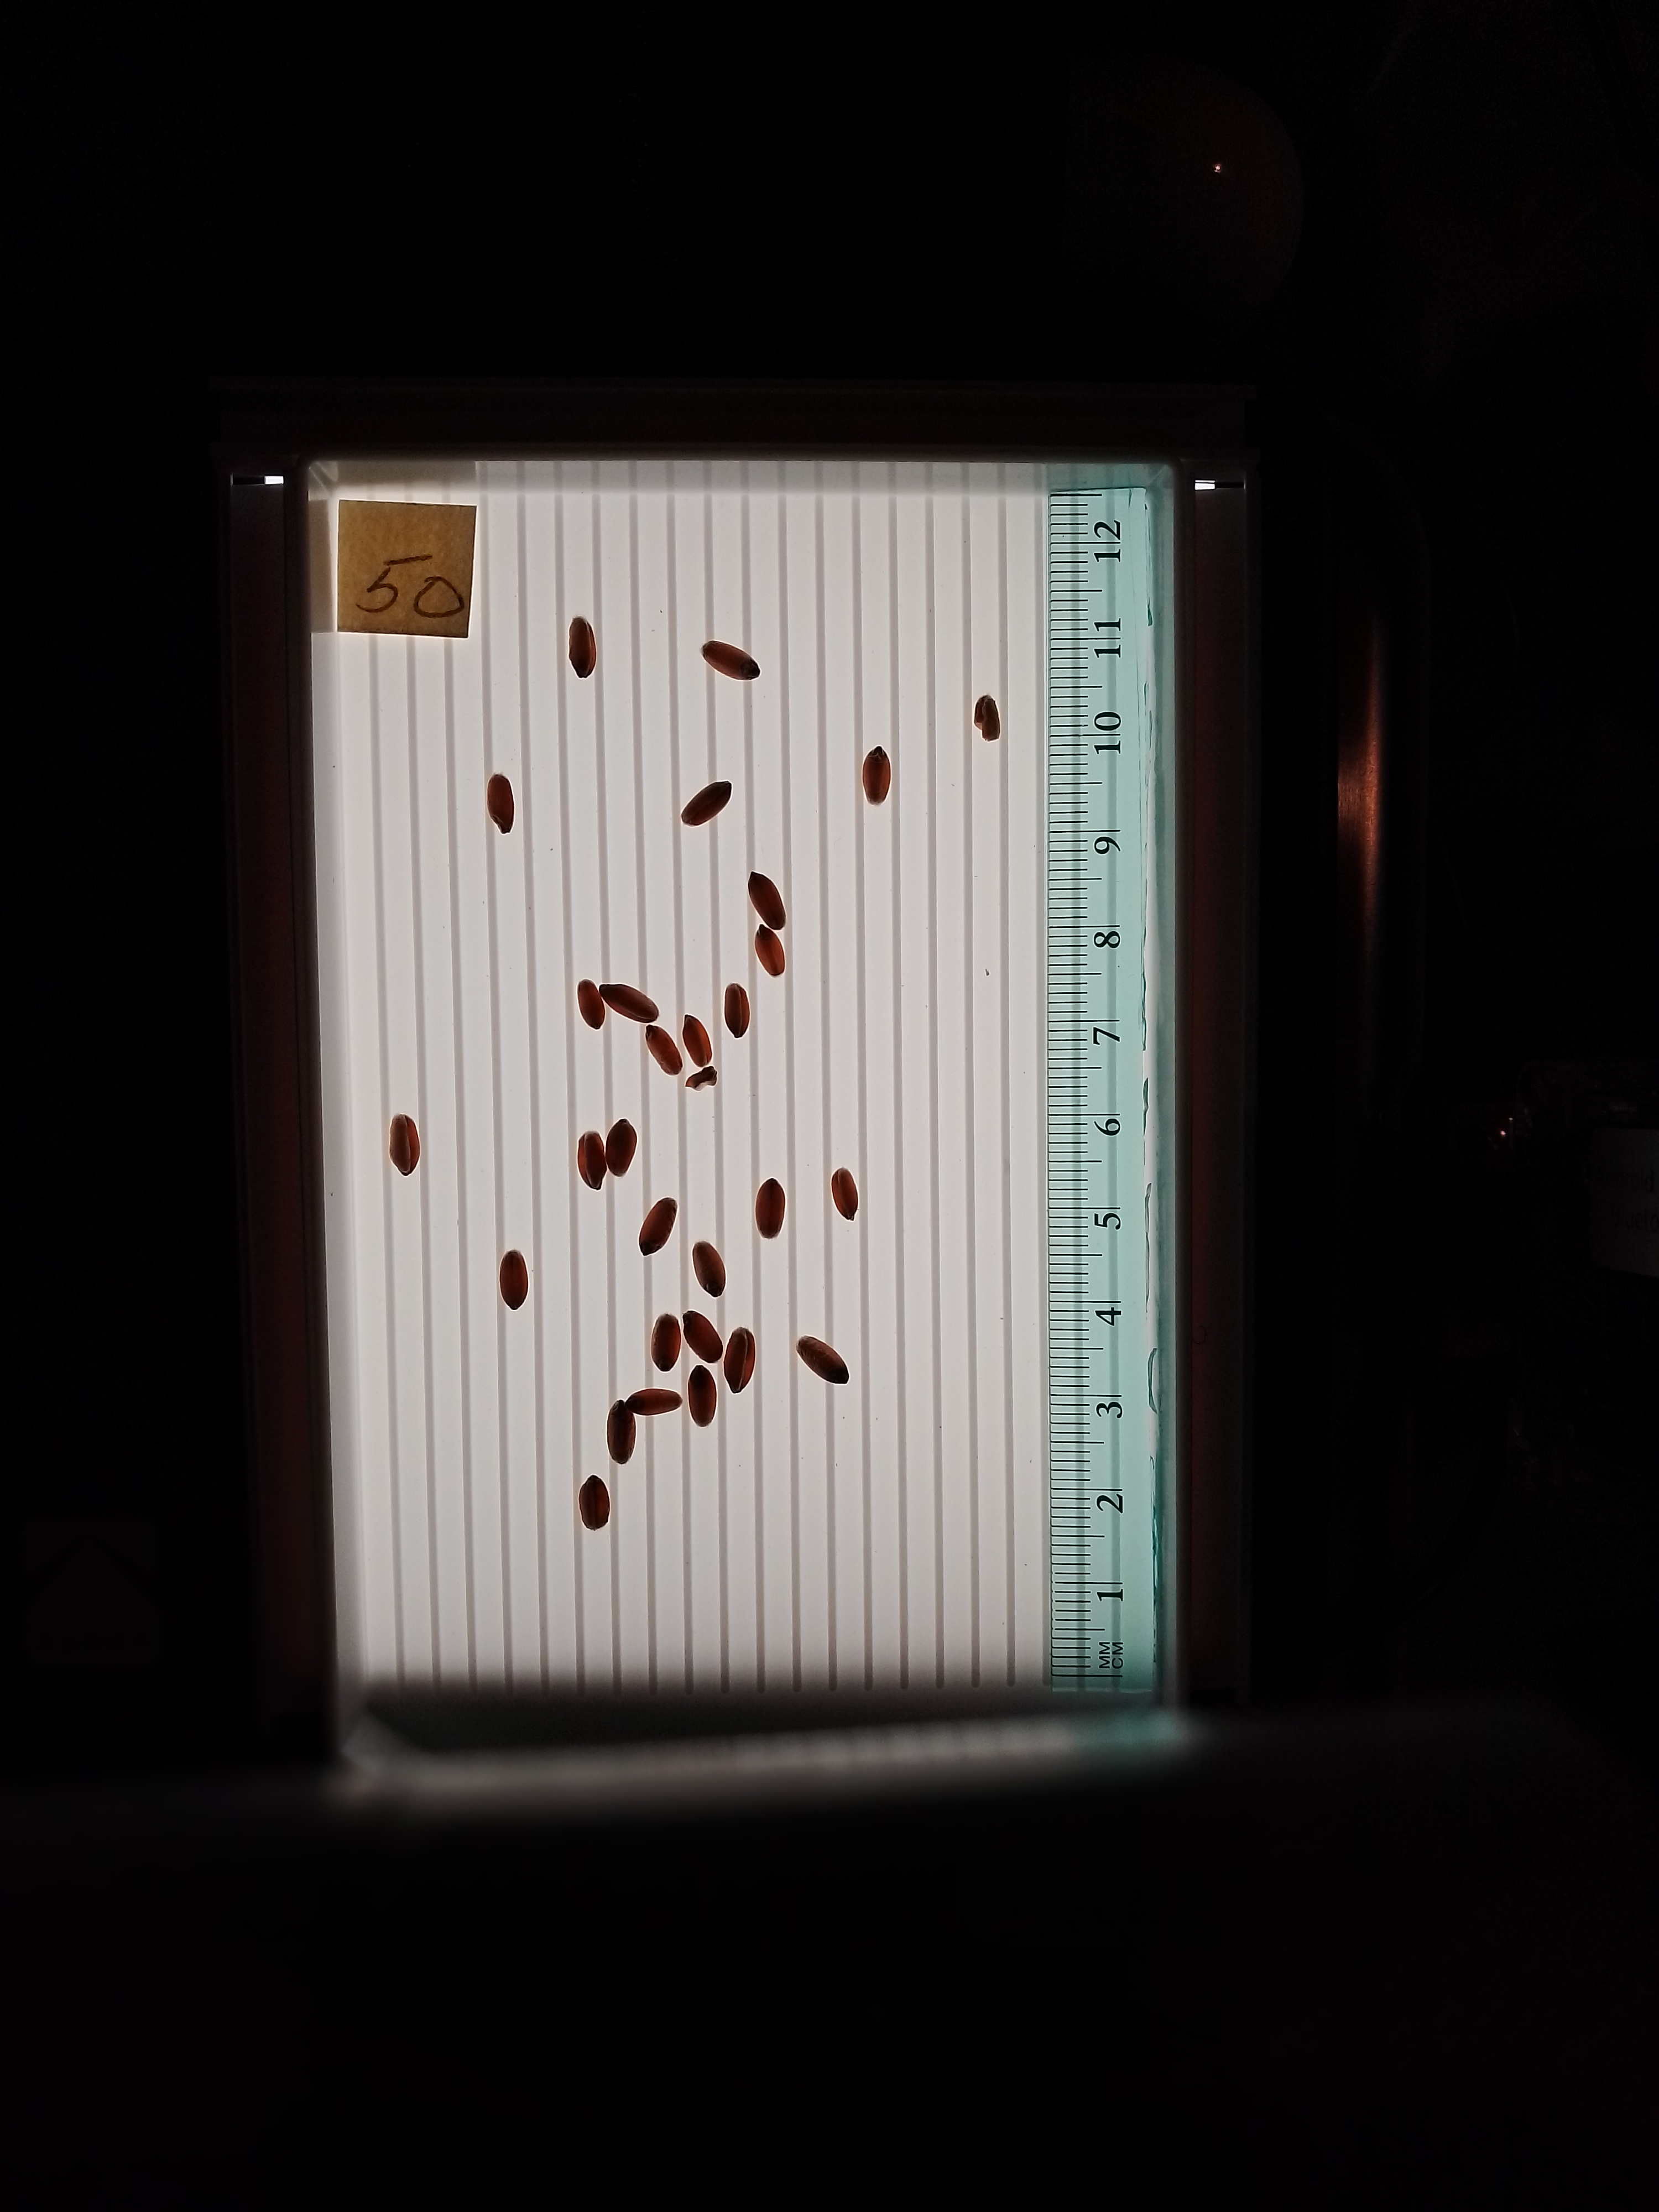seed mask: (798, 1336, 850, 1385), (601, 982, 657, 1024), (681, 780, 732, 826), (702, 641, 758, 681), (749, 874, 786, 928), (723, 1329, 755, 1392), (640, 1198, 674, 1254), (389, 1116, 420, 1176), (685, 1312, 721, 1362), (650, 1315, 681, 1372), (647, 1026, 681, 1076), (755, 1179, 784, 1238), (863, 747, 892, 805), (608, 1402, 636, 1463), (694, 1244, 725, 1298), (568, 618, 596, 678), (688, 1367, 716, 1426), (579, 1477, 610, 1529), (500, 1252, 528, 1310), (606, 1122, 636, 1176), (627, 1388, 681, 1418), (755, 925, 786, 975), (486, 775, 514, 831), (579, 1134, 606, 1188), (577, 981, 606, 1029), (725, 984, 751, 1036), (683, 1017, 711, 1066), (833, 1170, 857, 1219), (974, 697, 999, 742), (687, 1068, 716, 1089)
